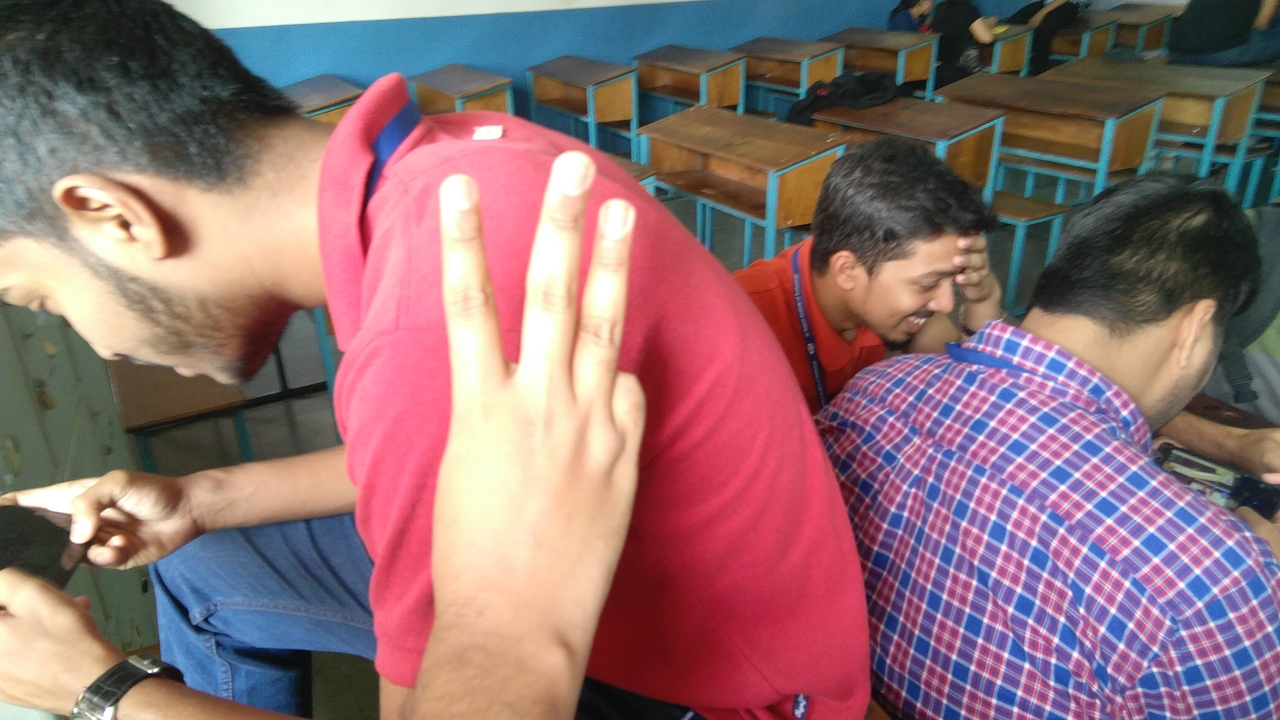fingertip: (536, 140, 598, 210), (595, 193, 653, 249), (428, 172, 478, 228)
